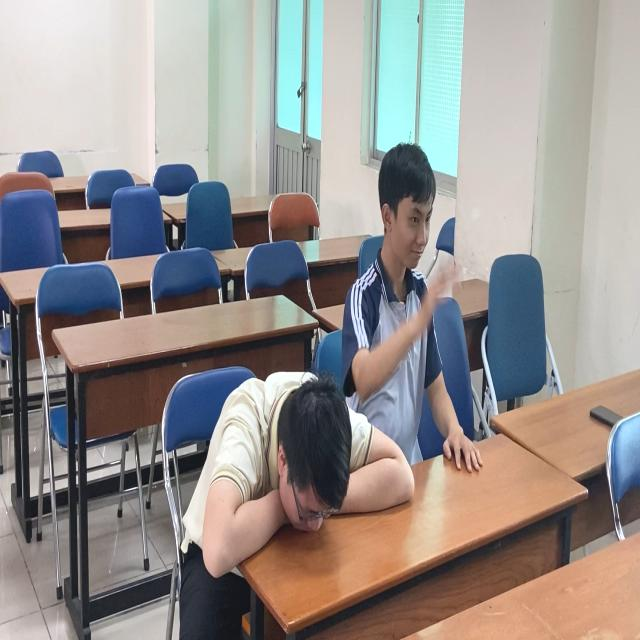sleep: (187, 359, 420, 601)
